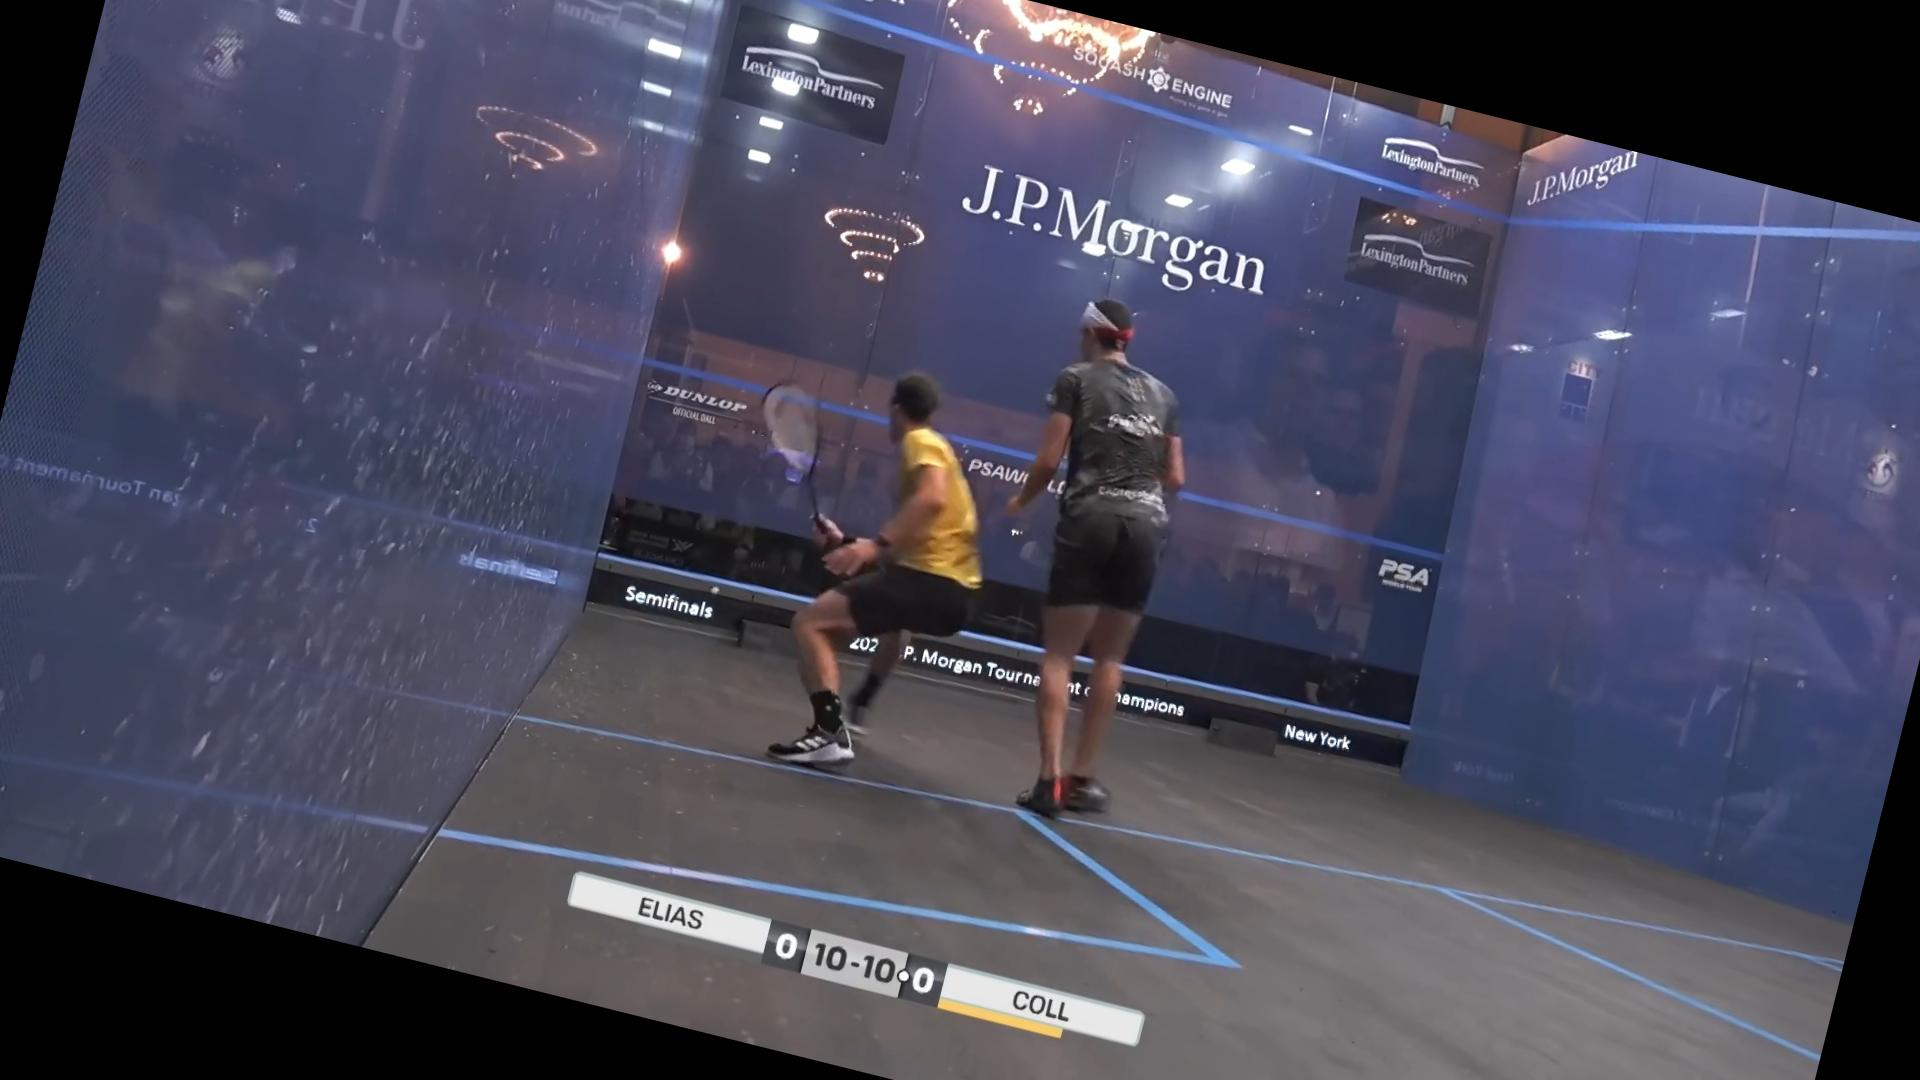Racket: (732, 364, 861, 524)
